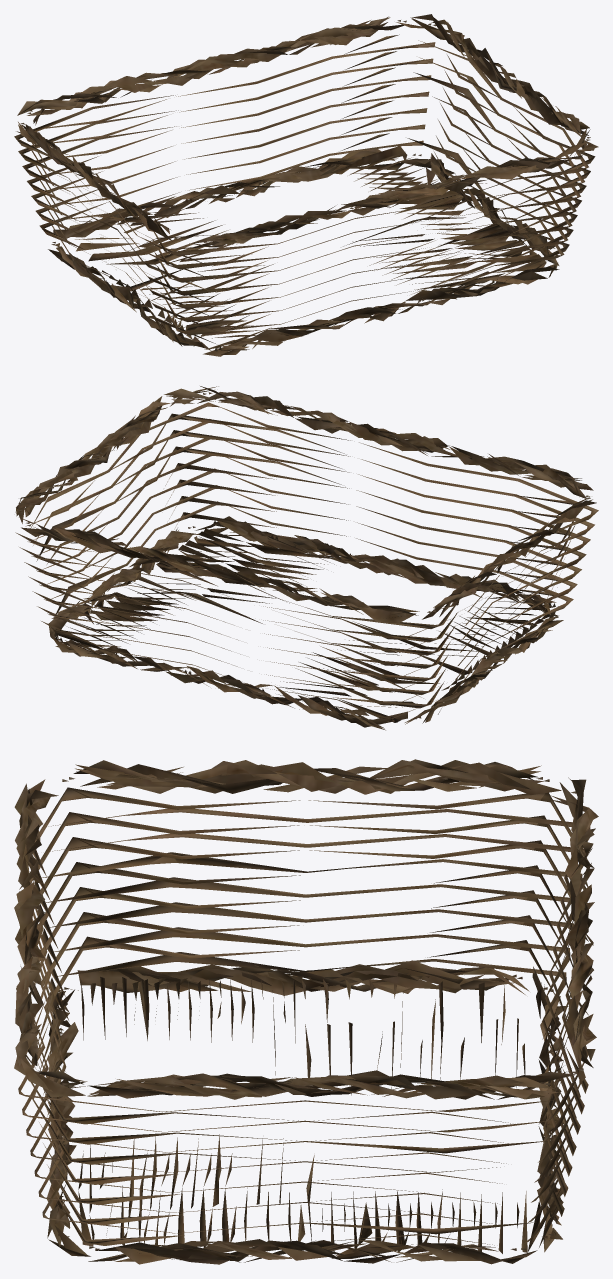
File: wicker_basket_01_1k.gltf.lod.glb
3 views of the same model, one above another, from view 1: azimuth 30°, elevation 25°; view 2: azimuth 150°, elevation 25°; view 3: azimuth 270°, elevation 25° (orthographic). The views are drawn at different scales.
Visible parts, largest first — view 1: wicker_basket_01; view 2: wicker_basket_01; view 3: wicker_basket_01.
Boxes of the visible parts, x1=… form: wicker_basket_01: x1=14, y1=14, x2=598, y2=356; wicker_basket_01: x1=15, y1=386, x2=598, y2=730; wicker_basket_01: x1=14, y1=759, x2=598, y2=1264.
Size of the model in its own units: 0.383 by 0.1185 by 0.2931.
Materials: 1 (1 with a texture image).
